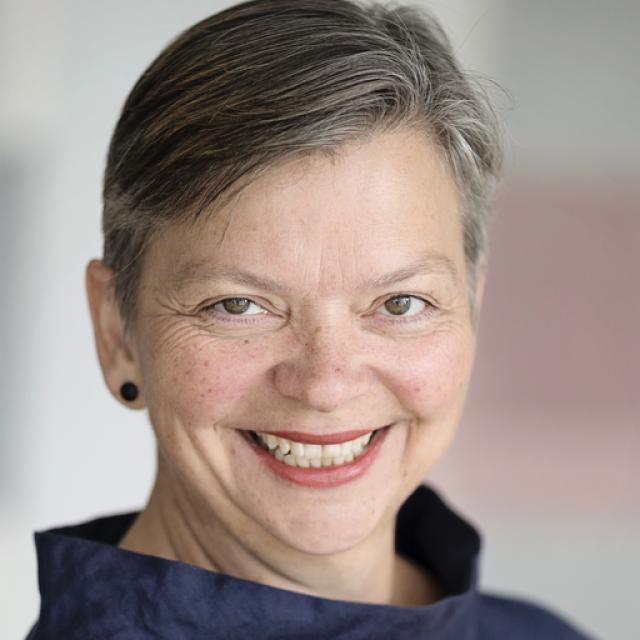happy: (138, 114, 478, 556)
